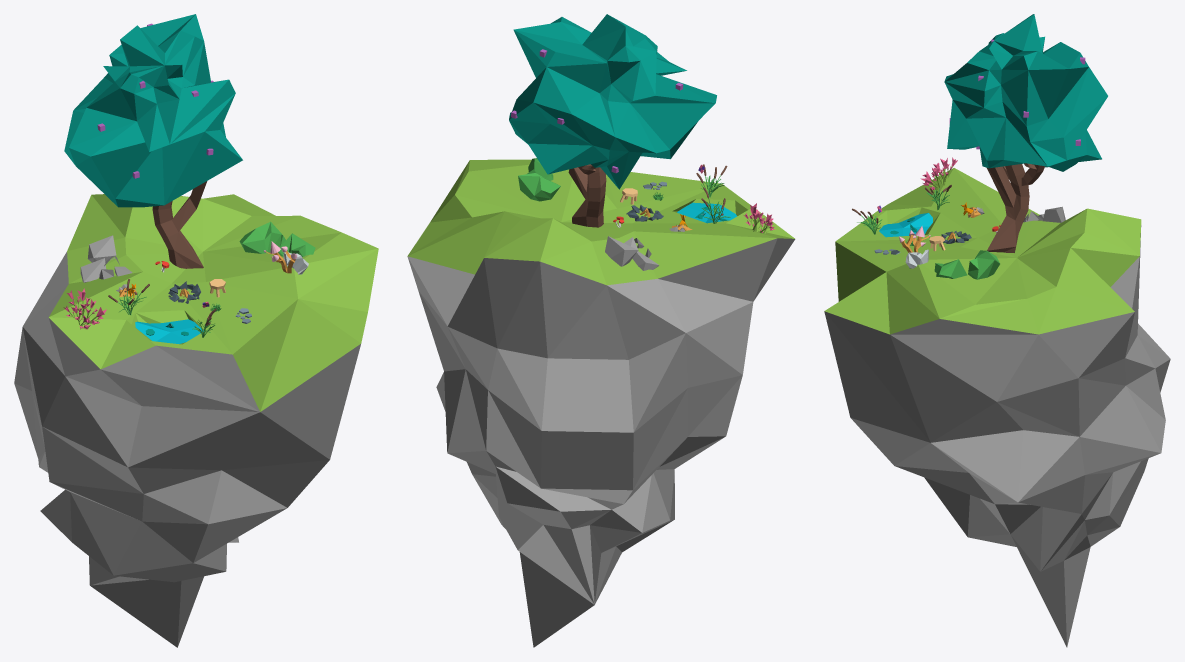
The model's file is nature-small-island-with-fox-248.glb.
The picture shows the model from 3 angles, left to right: view 1: azimuth 30°, elevation 25°; view 2: azimuth 150°, elevation 25°; view 3: azimuth 270°, elevation 25°; orthographic projection. The views are drawn at different scales.
Parts seen in each view (by area): view 1: group89880989, group66116416, group1427171881, group950227613, group451614104, group1036978087; view 2: group89880989, group66116416, group1427171881, group451614104, group950227613, group1036978087; view 3: group89880989, group66116416, group1427171881, group950227613, group451614104, group2100907415.
Part boxes in pixels (left/top/right/bottom): group89880989: left=14, top=194, right=378, bottom=647; group66116416: left=64, top=14, right=242, bottom=207; group1427171881: left=152, top=181, right=207, bottom=268; group950227613: left=135, top=319, right=203, bottom=343; group451614104: left=239, top=221, right=285, bottom=253; group1036978087: left=87, top=235, right=116, bottom=262; group89880989: left=407, top=159, right=795, bottom=647; group66116416: left=509, top=14, right=716, bottom=189; group1427171881: left=568, top=167, right=606, bottom=227; group451614104: left=518, top=169, right=560, bottom=201; group950227613: left=677, top=202, right=736, bottom=223; group1036978087: left=605, top=236, right=637, bottom=266; group89880989: left=824, top=168, right=1170, bottom=647; group66116416: left=944, top=14, right=1107, bottom=171; group1427171881: left=987, top=164, right=1029, bottom=252; group950227613: left=879, top=213, right=932, bottom=237; group451614104: left=968, top=250, right=999, bottom=279; group2100907415: left=901, top=234, right=929, bottom=268.
Bounding box in the file's own units: 3.55 × 6.83 × 3.53.
